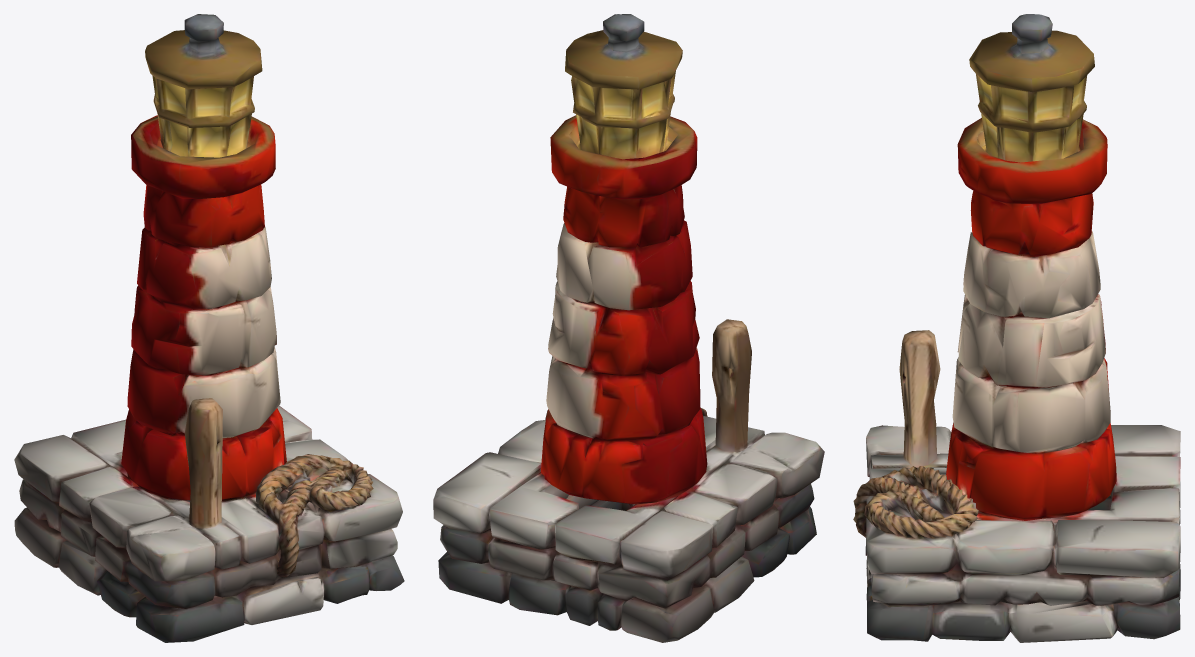
Rendered from tile_port.glb.
3 views of the same model, side by side, from view 1: azimuth 30°, elevation 25°; view 2: azimuth 150°, elevation 25°; view 3: azimuth 270°, elevation 25° (orthographic). The views are drawn at different scales.
Parts seen in each view (by area): view 1: node_0; view 2: node_0; view 3: node_0.
Part boxes in pixels (left/top/right/bottom): node_0: left=14, top=14, right=404, bottom=642; node_0: left=433, top=14, right=824, bottom=642; node_0: left=853, top=14, right=1180, bottom=642.
Size of the model in its own units: 0.4748 by 1 by 0.5277.
1 material, 1 textured.
